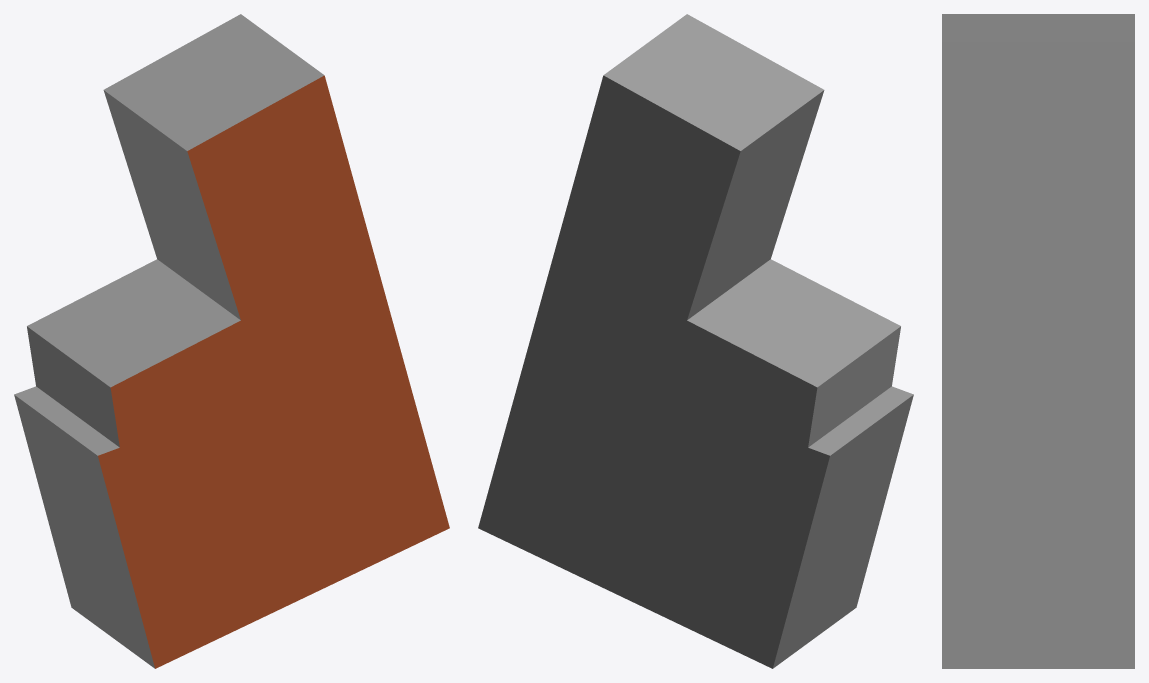
File: construction_1413_assumed_A_Casa_h6m.obj
3 views of the same model, side by side, from view 1: azimuth 30°, elevation 25°; view 2: azimuth 150°, elevation 25°; view 3: azimuth 270°, elevation 25° (orthographic). The views are drawn at different scales.
Parts seen in each view (by area): view 1: construction_1413_assumed_A_Casa; view 2: construction_1413_assumed_A_Casa; view 3: construction_1413_assumed_A_Casa.
Part boxes in pixels (x1,y1,x2,y2): construction_1413_assumed_A_Casa: [14, 14, 449, 668]; construction_1413_assumed_A_Casa: [478, 14, 913, 668]; construction_1413_assumed_A_Casa: [942, 14, 1134, 668].
Size of the model in its own units: 14.56 by 21.82 by 6.
